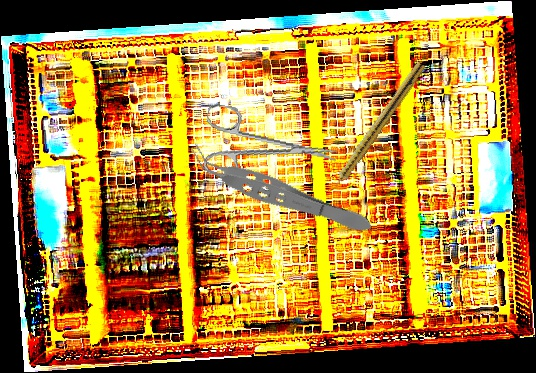Handpiece: (324, 59, 427, 197)
Iris Scissors: (198, 102, 342, 194)
Tissue Forceps: (183, 142, 377, 242)
